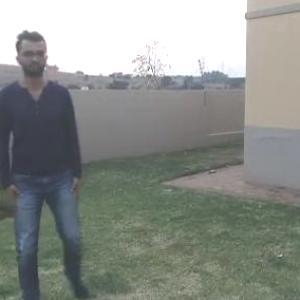follow: (13, 25, 93, 299)
